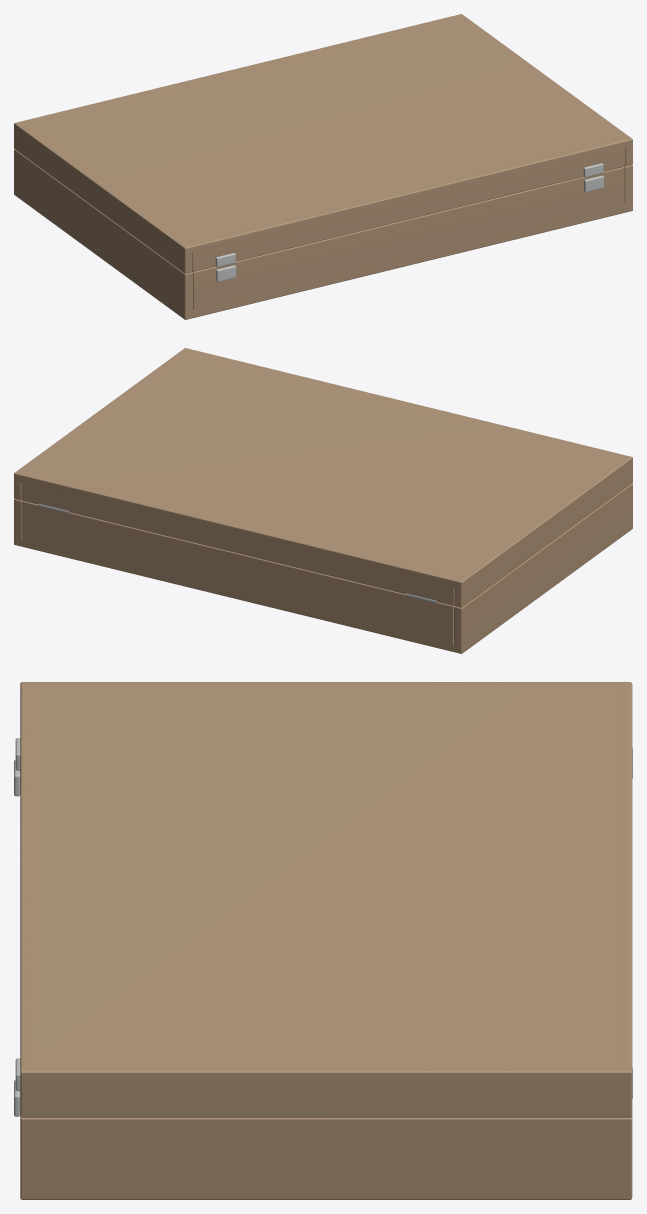
The model's file is pockets-model.glb.
The picture shows the model from 3 angles, top to bottom: view 1: azimuth 30°, elevation 25°; view 2: azimuth 150°, elevation 25°; view 3: azimuth 270°, elevation 25°; orthographic projection. The views are drawn at different scales.
Parts seen in each view (by area): view 1: Lid_top, Case_end, Lid_end, Case_side, Lid_side, Lid_end.001, Lid_side.001, Case_base; view 2: Lid_top, Case_end.001, Lid_end.001, Case_side, Lid_side, Case_base, Lid_end, Lid_side.001; view 3: Lid_top, Case_side.001, Lid_side.001, Lid_end.001, Lid_end, Case_base, Lid_side.
Boxes of the visible parts, x1=… form: Lid_top: x1=16, y1=14, x2=630, y2=254; Case_end: x1=192, y1=167, x2=624, y2=317; Lid_end: x1=190, y1=138, x2=625, y2=271; Case_side: x1=14, y1=149, x2=192, y2=319; Lid_side: x1=14, y1=121, x2=192, y2=273; Lid_end.001: x1=22, y1=16, x2=456, y2=121; Lid_side.001: x1=455, y1=14, x2=632, y2=166; Case_base: x1=59, y1=205, x2=625, y2=317; Lid_top: x1=15, y1=348, x2=630, y2=587; Case_end.001: x1=22, y1=501, x2=454, y2=651; Lid_end.001: x1=21, y1=472, x2=456, y2=605; Case_side: x1=454, y1=483, x2=632, y2=653; Lid_side: x1=454, y1=455, x2=632, y2=607; Case_base: x1=21, y1=539, x2=477, y2=651; Lid_end: x1=190, y1=350, x2=624, y2=455; Lid_side.001: x1=14, y1=348, x2=191, y2=500; Lid_top: x1=20, y1=682, x2=632, y2=1076; Case_side.001: x1=20, y1=1116, x2=632, y2=1199; Lid_side.001: x1=20, y1=1066, x2=632, y2=1117; Lid_end.001: x1=618, y1=689, x2=632, y2=1066; Lid_end: x1=20, y1=688, x2=33, y2=1065; Case_base: x1=24, y1=1188, x2=628, y2=1197; Lid_side: x1=20, y1=682, x2=632, y2=689.
Size of the model in its own units: 0.2972 by 0.0457 by 0.1991.
